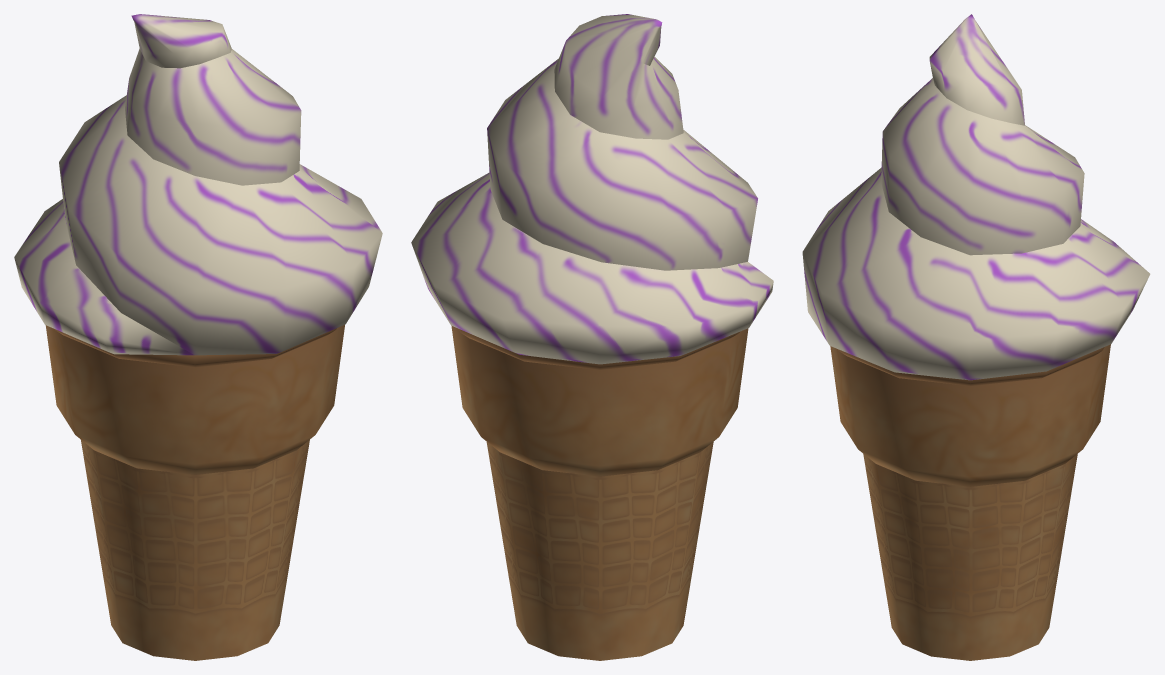
File: Ice cream 2.fbx
3 views of the same model, side by side, from view 1: azimuth 30°, elevation 25°; view 2: azimuth 150°, elevation 25°; view 3: azimuth 270°, elevation 25° (orthographic). The views are drawn at different scales.
Parts seen in each view (by area): view 1: Ice_cream_low, Cone_low; view 2: Ice_cream_low, Cone_low; view 3: Ice_cream_low, Cone_low.
Boxes of the visible parts, bbox=[...] form: Ice_cream_low: bbox=[14, 14, 382, 355]; Cone_low: bbox=[45, 325, 344, 660]; Ice_cream_low: bbox=[411, 14, 773, 364]; Cone_low: bbox=[451, 326, 748, 660]; Ice_cream_low: bbox=[802, 14, 1150, 380]; Cone_low: bbox=[830, 344, 1110, 660].
Bounding box in the file's own units: 30.86 × 57.54 × 31.04.
